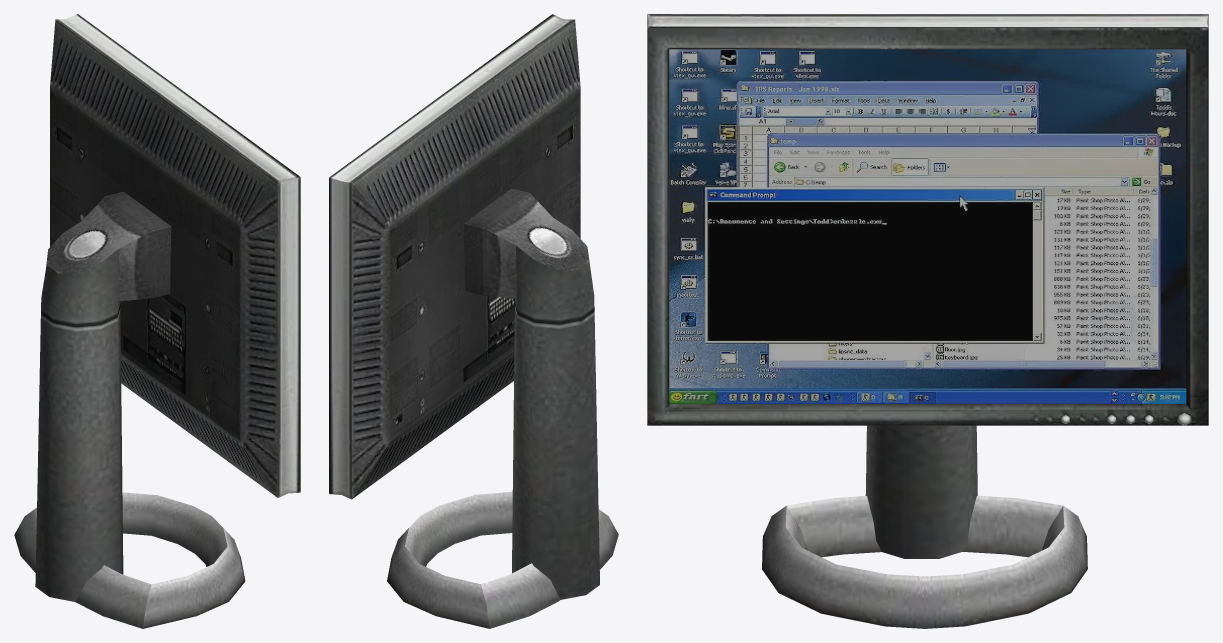
Rendered from computer_monitor.glb.
The picture shows the model from 3 angles, left to right: view 1: azimuth 30°, elevation 25°; view 2: azimuth 150°, elevation 25°; view 3: azimuth 270°, elevation 25°; orthographic projection. The views are drawn at different scales.
Parts seen in each view (by area): view 1: 0_computer; view 2: 0_computer; view 3: 1_screen, 0_computer.
Part boxes in pixels (left/top/right/bottom): 0_computer: left=14, top=14, right=300, bottom=628; 0_computer: left=329, top=14, right=618, bottom=628; 1_screen: left=669, top=49, right=1186, bottom=403; 0_computer: left=647, top=14, right=1208, bottom=628.
Size of the model in its own units: 0.278 by 0.6472 by 0.5704.
Materials: 2 (2 with a texture image).
